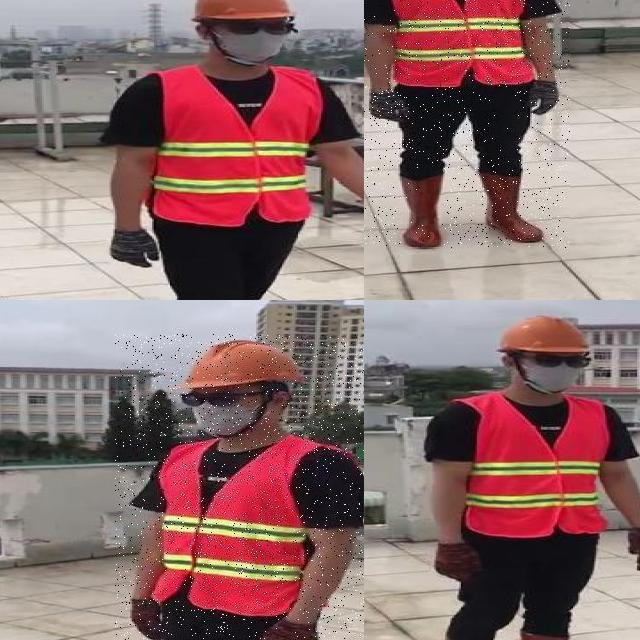boots: (476, 170, 552, 243), (396, 170, 444, 247)
face_mask: (214, 18, 291, 61), (519, 352, 588, 393)
glasses: (217, 16, 299, 41), (530, 350, 594, 370)
hand_glove: (108, 229, 164, 269), (431, 542, 479, 581), (628, 529, 640, 570)
head_helmet: (176, 334, 302, 392), (493, 313, 593, 356), (181, 0, 295, 23)
person: (98, 0, 364, 300), (115, 335, 364, 640), (415, 311, 640, 640), (364, 0, 570, 248)
vest: (153, 437, 317, 613), (151, 66, 321, 226), (463, 394, 605, 536), (382, 0, 530, 87)
